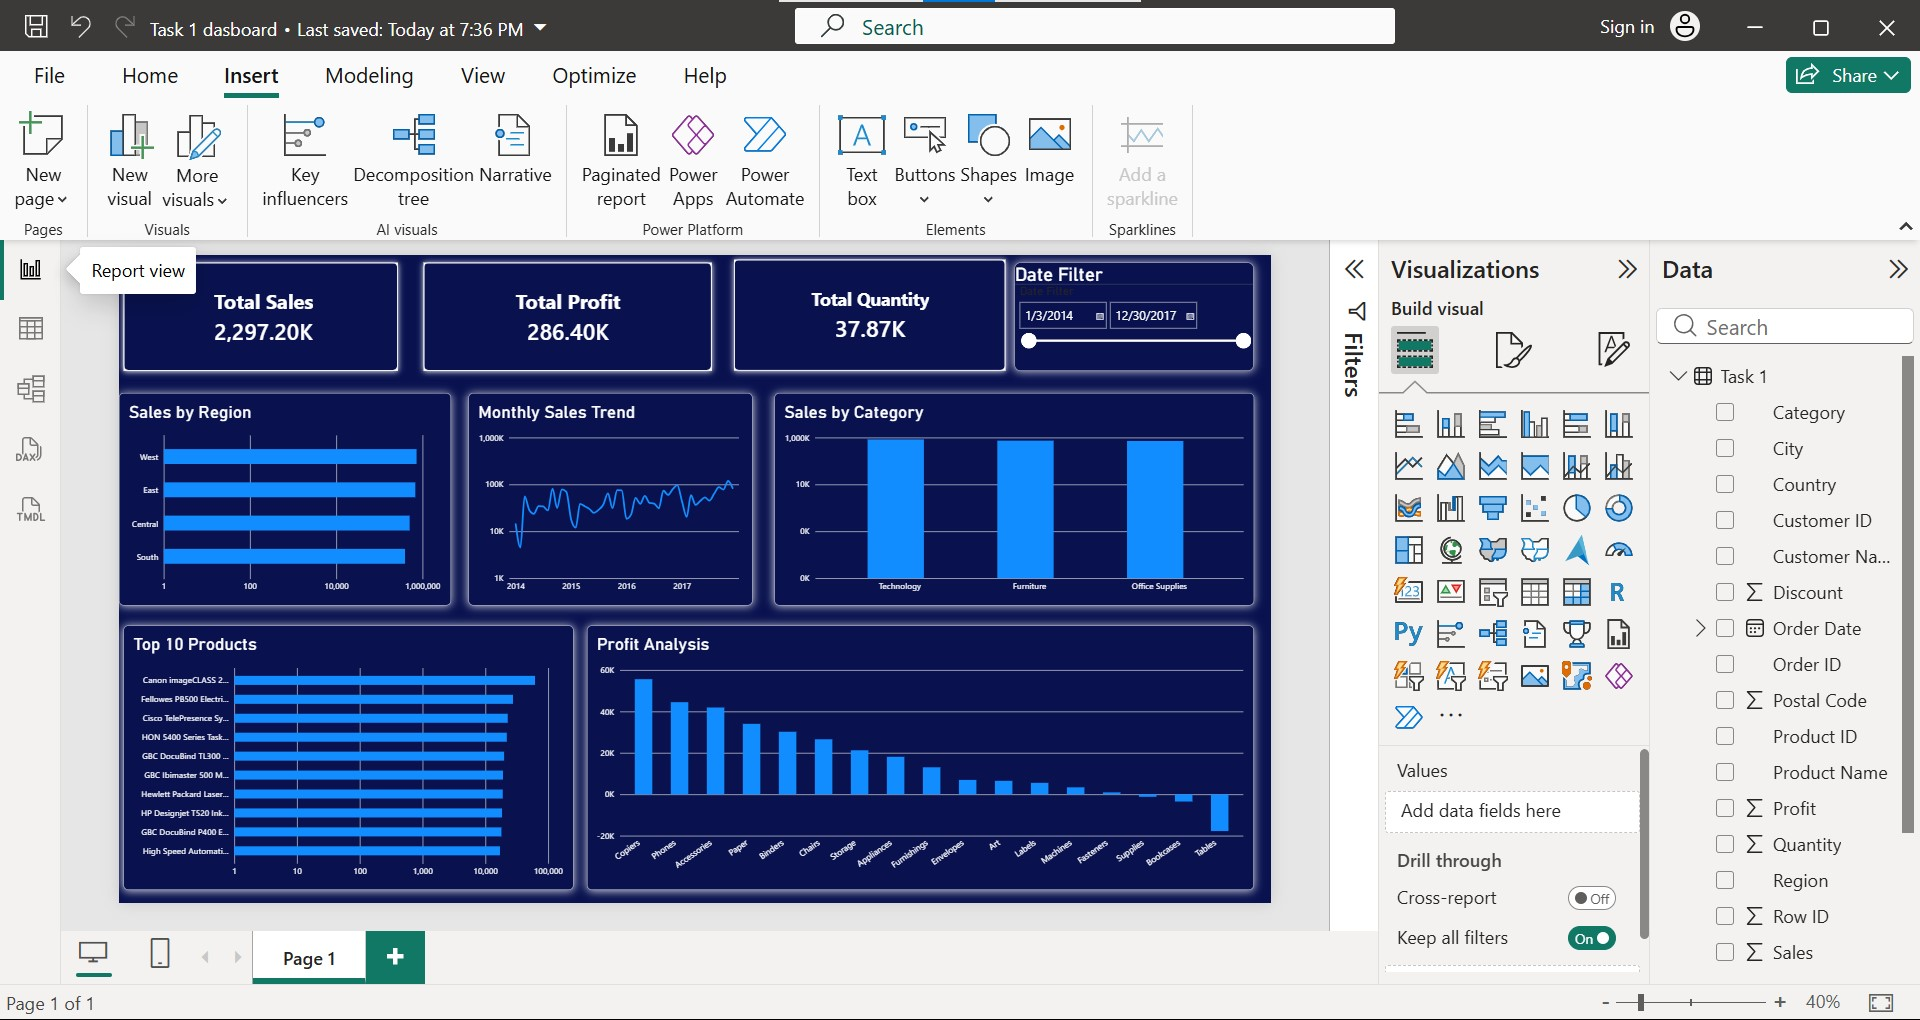

The page's visual inventory and layout, read from the dashboard file:
{"tool":"powerbi","page":{"name":"Page 1","canvas":[1920,1080],"ordinal":0},"visuals":[{"type":"cardVisual","fields":{"Data":["Sum(Task 1.Sales)"]},"box":[7,11.7,457.2,180.5],"z":0},{"type":"cardVisual","fields":{"Data":["Sum(Task 1.Profit)"]},"box":[506.4,11.7,480.6,180.5],"z":1000},{"type":"cardVisual","fields":{"Data":["Sum(Task 1.Quantity)"]},"box":[1024.5,7,452.5,185.2],"z":2000},{"type":"lineChart","title":"Monthly Sales Trend ","fields":{"Category":["Task 1.Order Date.Variation.Date Hierarchy.Year","Task 1.Order Date.Variation.Date Hierarchy.Month"],"Y":["Sum(Task 1.Sales)"]},"box":[581.4,229.8,473.6,354],"z":3000},{"type":"clusteredColumnChart","title":"Sales by Category","fields":{"Category":["Task 1.Category"],"Y":["Sum(Task 1.Sales)"]},"box":[1092.5,229.8,799.5,354],"z":4000},{"type":"barChart","title":"Sales by Region","fields":{"Category":["Task 1.Region"],"Y":["Sum(Task 1.Sales)"]},"box":[0,229.8,553.3,354],"z":5000},{"type":"barChart","title":"Top 10 Products ","fields":{"Category":["Task 1.Product Name"],"Y":["Sum(Task 1.Sales)"]},"box":[7,616.6,750.2,440.8],"z":6000},{"type":"columnChart","title":"Profit Analysis ","fields":{"Category":["Task 1.Sub-Category"],"Y":["Sum(Task 1.Profit)"]},"box":[780.7,616.6,1111.3,440.8],"z":7000},{"type":"slicer","title":"Date Filter","fields":{"Values":["Task 1.Order Date"]},"box":[1493.4,11.7,398.6,180.5],"z":8000}]}

Visuals, with their boxes on the page's 1920x1080 design canvas (x1, y1, x2, y2). These are canvas units, not pixel positions in the 1920x1020 screenshot, which may show the page scaled, cropped or inside an application window:
cardVisual - Sum(Task 1.Sales): (7,12,464,192)
cardVisual - Sum(Task 1.Profit): (506,12,987,192)
cardVisual - Sum(Task 1.Quantity): (1024,7,1477,192)
"Monthly Sales Trend " lineChart: (581,230,1055,584)
"Sales by Category" clusteredColumnChart: (1092,230,1892,584)
"Sales by Region" barChart: (0,230,553,584)
"Top 10 Products " barChart: (7,617,757,1057)
"Profit Analysis " columnChart: (781,617,1892,1057)
"Date Filter" slicer: (1493,12,1892,192)
